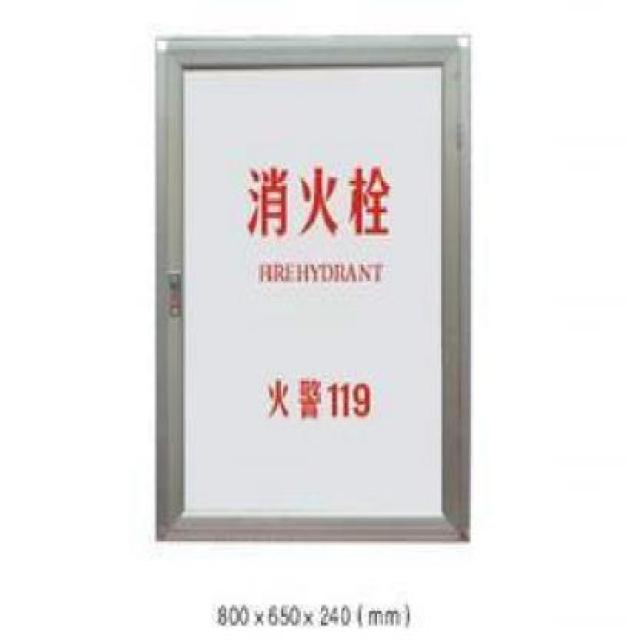firehydrant: (149, 31, 475, 550)
